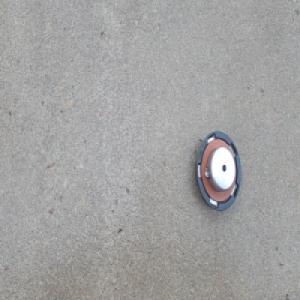FuelCap: (194, 129, 242, 212)
